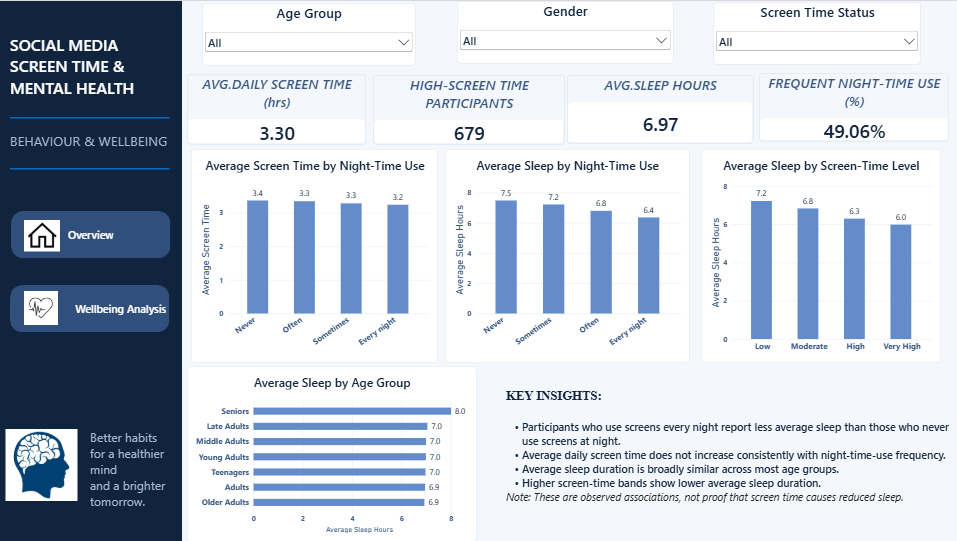

What the dashboard file says about the page in this screenshot:
{"tool":"powerbi","page":{"name":"Overview","canvas":[1920,1080],"ordinal":1},"visuals":[{"type":"shape","box":[0,0,370.5,1080.6],"z":0},{"type":"textbox","box":[26.8,63.8,269.6,160.5],"z":1000},{"type":"shape","box":[26.8,0,319,467.2],"z":2000},{"type":"textbox","box":[26.8,259.3,319,55.6],"z":3000},{"type":"shape","box":[26.8,102.9,319,467.2],"z":4000},{"type":"shape","box":[24.7,401.4,319,94.7],"z":5000},{"type":"shape","box":[26.8,568.1,319,94.7],"z":6000},{"type":"image","box":[37,397.3,96.7,102.9],"z":7000},{"type":"image","box":[53.5,576.3,67.9,76.2],"z":8000},{"type":"image","box":[16.5,856.3,146.1,144.1],"z":9000},{"type":"textbox","box":[185.2,856.3,185.2,224.4],"z":10000},{"type":"slicer","title":"Age Group","fields":{"Values":["social_media_screentime_mental_health_2026.Age Group"]},"box":[385.5,9,354.7,124.9],"z":11000},{"type":"slicer","title":"Gender","fields":{"Values":["social_media_screentime_mental_health_2026.Gender"]},"box":[769.1,7.2,354.7,124.9],"z":12000},{"type":"slicer","title":"Screen Time Status","fields":{"Values":["social_media_screentime_mental_health_2026.Screen Time Band"]},"box":[1152.8,7.2,354.7,124.9],"z":13000},{"type":"slicer","title":"Wellbeing Status","fields":{"Values":["social_media_screentime_mental_health_2026.Wellbeing Band"]},"box":[1536.4,9,352.9,124.9],"z":14000},{"type":"cardVisual","title":"TOTAL PARTICIPANTS","fields":{"Data":["social_media_screentime_mental_health_2026.Total Participants"]},"box":[385.5,146.6,327.5,144.8],"z":15000},{"type":"cardVisual","title":"AVG.DAILY SCREEN TIME (hrs)","fields":{"Data":["social_media_screentime_mental_health_2026.Average Screen Time"]},"box":[740.2,148.4,365.6,144.8],"z":16000},{"type":"cardVisual","title":"AVG.SLEEP HOURS","fields":{"Data":["social_media_screentime_mental_health_2026.Average Sleep Hours"]},"box":[1123.8,150.2,365.6,144.8],"z":17000},{"type":"cardVisual","title":"PARTICIPANTS AT RISK (%)","fields":{"Data":["social_media_screentime_mental_health_2026.At Risk Percentage"]},"box":[1523.7,148.4,365.6,144.8],"z":18000},{"type":"clusteredColumnChart","title":"Sleep Duration by Screen Time Level","fields":{"Category":["social_media_screentime_mental_health_2026.Screen Time Band"],"Y":["social_media_screentime_mental_health_2026.Average Sleep Hours"]},"box":[385.5,302.2,461.5,385.5],"z":19000},{"type":"clusteredBarChart","title":"Screen Time by Age Group","fields":{"Category":["social_media_screentime_mental_health_2026.Age Group"],"Y":["social_media_screentime_mental_health_2026.Average Screen Time"]},"box":[874.1,304,553.8,383.6],"z":20000},{"type":"donutChart","title":"Wellbeing Distribution","fields":{"Category":["social_media_screentime_mental_health_2026.Wellbeing Band"],"Y":["social_media_screentime_mental_health_2026.Total Participants"]},"box":[387.3,693.1,459.7,387.3],"z":21000},{"type":"clusteredColumnChart","title":"Average Anxiety by Screen Time","fields":{"Category":["social_media_screentime_mental_health_2026.Screen Time Band"],"Y":["social_media_screentime_mental_health_2026.Average Anxiety Score"]},"box":[874.1,691.3,553.8,389.1],"z":22000},{"type":"clusteredColumnChart","title":"Life Satisfaction by Screen Time","fields":{"Category":["social_media_screentime_mental_health_2026.Screen Time Band"],"Y":["social_media_screentime_mental_health_2026.Average Life Satisfaction"]},"box":[1442.3,304,461.5,383.6],"z":23000},{"type":"textbox","title":"KEY INSIGHTS:","box":[1442.3,698.5,461.5,374.6],"z":24000}]}

Visuals, with their boxes in screenshot pixels (x1, y1, x2, y2), scaled from the page's 1920x1080 canvas onto the 957x541 screenshot:
shape: BBox(0, 0, 185, 540)
textbox: BBox(13, 32, 148, 112)
shape: BBox(13, 0, 172, 234)
textbox: BBox(13, 130, 172, 158)
shape: BBox(13, 52, 172, 286)
shape: BBox(12, 201, 171, 249)
shape: BBox(13, 285, 172, 332)
image: BBox(18, 199, 67, 251)
image: BBox(27, 289, 61, 327)
image: BBox(8, 429, 81, 501)
textbox: BBox(92, 429, 185, 540)
"Age Group" slicer: BBox(192, 5, 369, 67)
"Gender" slicer: BBox(383, 4, 560, 66)
"Screen Time Status" slicer: BBox(575, 4, 751, 66)
"Wellbeing Status" slicer: BBox(766, 5, 942, 67)
"TOTAL PARTICIPANTS" cardVisual: BBox(192, 73, 355, 146)
"AVG.DAILY SCREEN TIME (hrs)" cardVisual: BBox(369, 74, 551, 147)
"AVG.SLEEP HOURS" cardVisual: BBox(560, 75, 742, 148)
"PARTICIPANTS AT RISK (%)" cardVisual: BBox(759, 74, 942, 147)
"Sleep Duration by Screen Time Level" clusteredColumnChart: BBox(192, 151, 422, 344)
"Screen Time by Age Group" clusteredBarChart: BBox(436, 152, 712, 344)
"Wellbeing Distribution" donutChart: BBox(193, 347, 422, 540)
"Average Anxiety by Screen Time" clusteredColumnChart: BBox(436, 346, 712, 540)
"Life Satisfaction by Screen Time" clusteredColumnChart: BBox(719, 152, 949, 344)
"KEY INSIGHTS:" textbox: BBox(719, 350, 949, 538)
